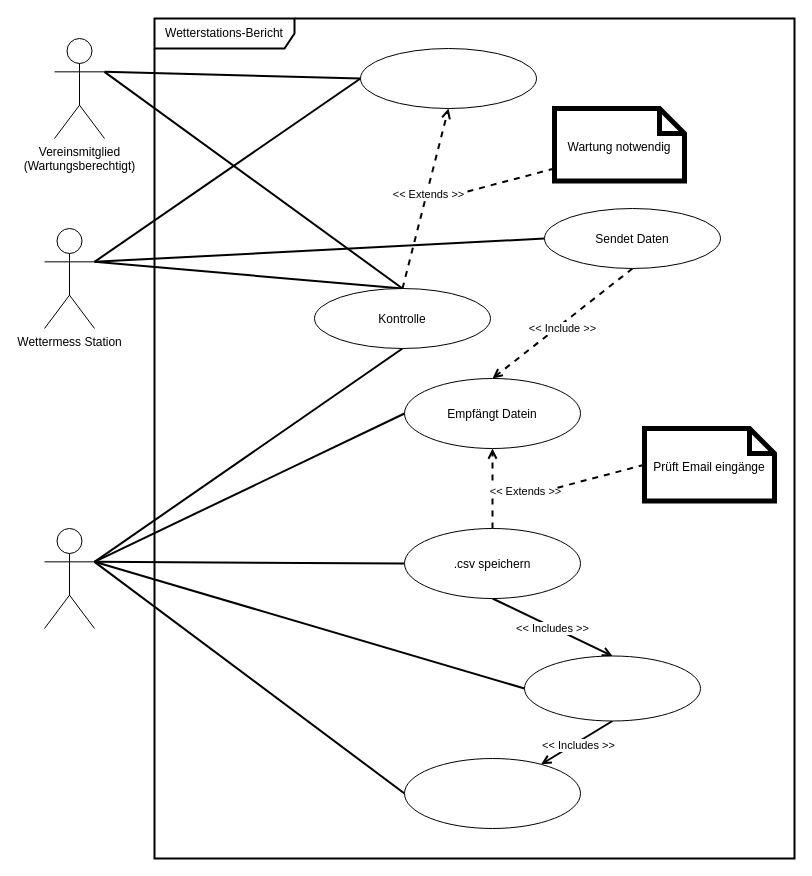
The diagram is 812 pixels wide and 876 high, and some of its shapes have lost their labels. The centre of each missing label's shape, as x and y in pixels:
"Tagesbericht erstellen" belongs at (492,793).
"validiert Daten" belongs at (612,688).
"Vereinsmitglied" belongs at (69,578).
"Wartung" belongs at (448,78).
